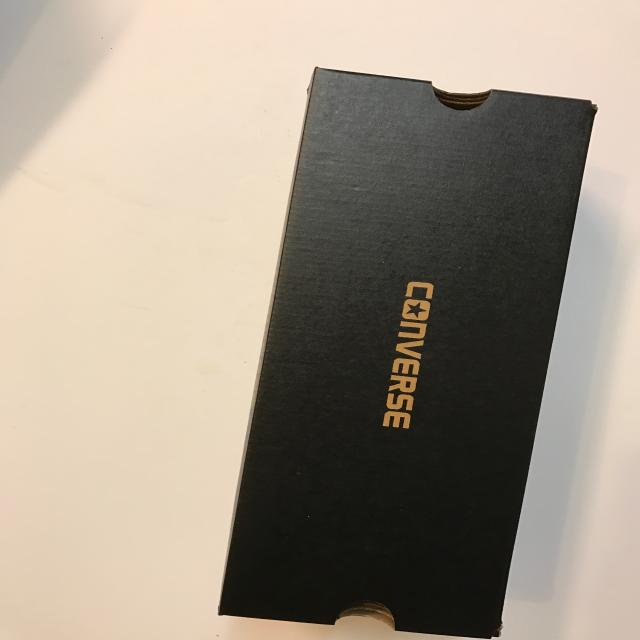cardboard: (211, 63, 606, 640)
